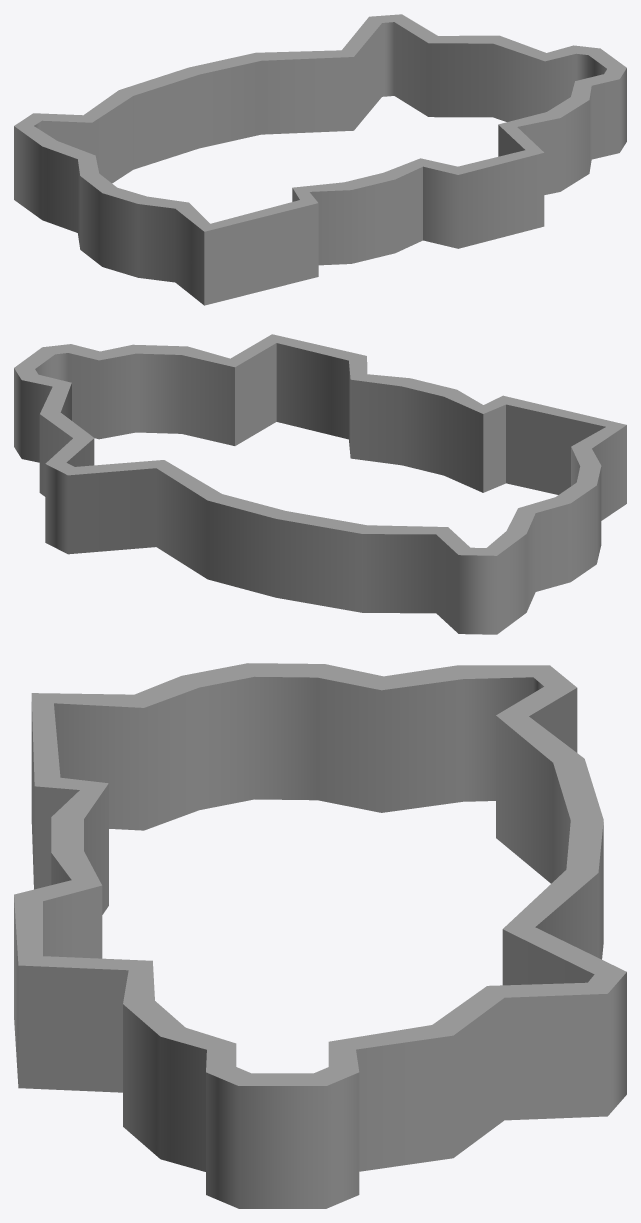
The model's file is BiscuitCutter_Pig_01.fbx.
3 renders of one model, top to bottom at view 1: azimuth 30°, elevation 25°; view 2: azimuth 150°, elevation 25°; view 3: azimuth 270°, elevation 25°, orthographic. The views are drawn at different scales.
Parts seen in each view (by area): view 1: BiscuitCutter_Pig_01; view 2: BiscuitCutter_Pig_01; view 3: BiscuitCutter_Pig_01.
Part boxes in pixels (x1,y1,x2,y2): BiscuitCutter_Pig_01: (14,14,626,305); BiscuitCutter_Pig_01: (14,334,626,634); BiscuitCutter_Pig_01: (14,663,626,1208).
Bounding box in the file's own units: 0.0943 × 0.0128 × 0.0578.
